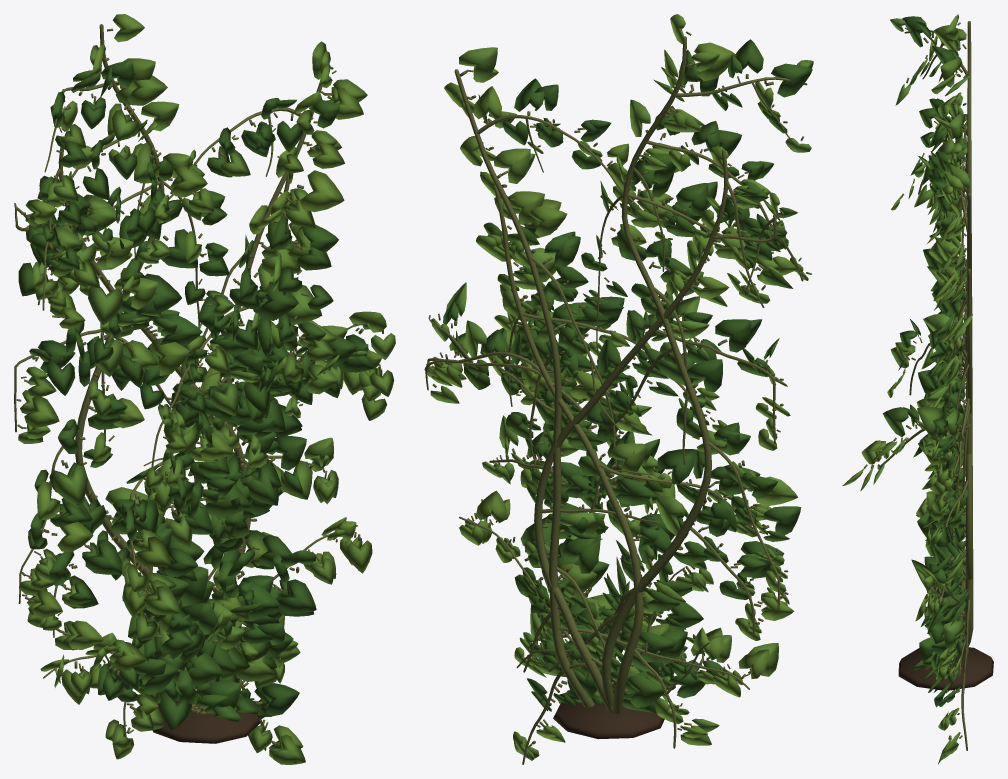
The model's file is climber_ivy_25.glb.
3 views of the same model, side by side, from view 1: azimuth 30°, elevation 25°; view 2: azimuth 150°, elevation 25°; view 3: azimuth 270°, elevation 25° (orthographic). The views are drawn at different scales.
Visible parts, largest first — view 1: Sammel Pflanze, Sammel Putz; view 2: Sammel Pflanze, Sammel Putz; view 3: Sammel Pflanze, Sammel Putz.
Boxes of the visible parts, x1,y1,x2,y2 form: Sammel Pflanze: (18, 14, 395, 764); Sammel Putz: (14, 24, 383, 750); Sammel Pflanze: (424, 14, 813, 760); Sammel Putz: (425, 31, 811, 764); Sammel Pflanze: (842, 14, 972, 764); Sammel Putz: (864, 21, 993, 750).
Bounding box in the file's own units: 1.25 × 2.55 × 0.5193.
